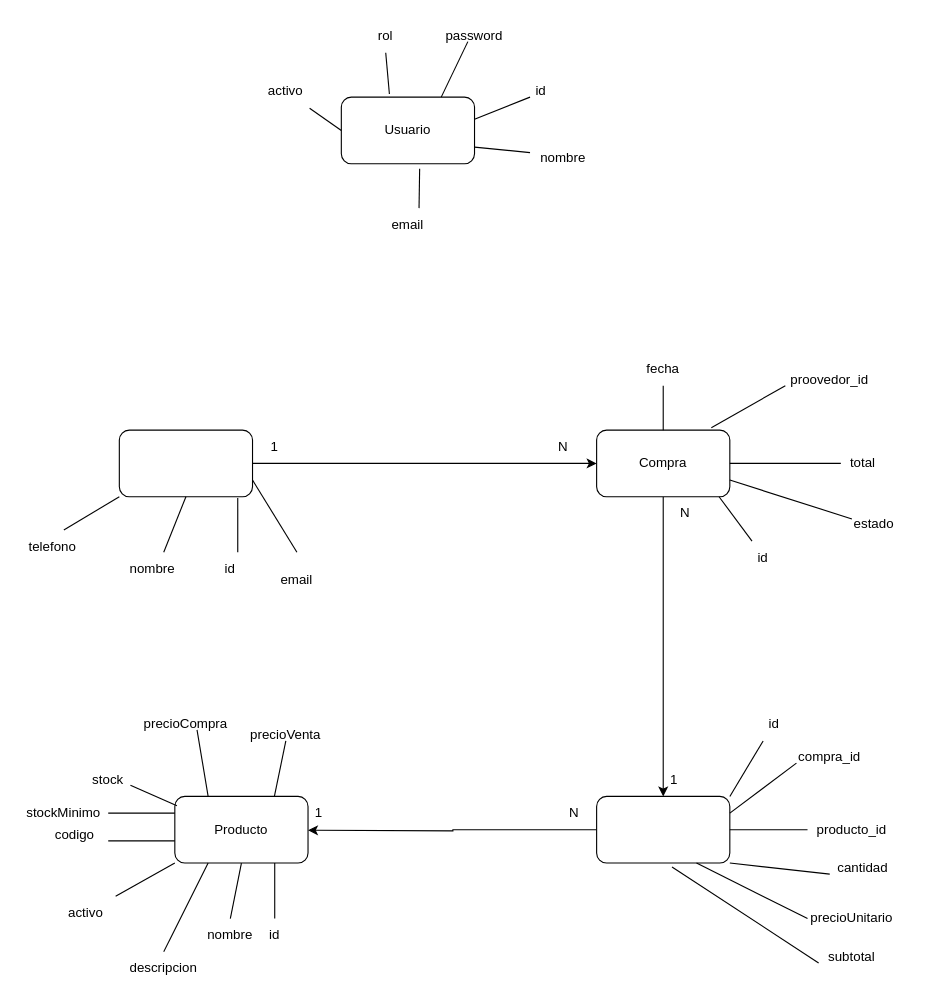
This 926x1003 diagram has some shape labels left out. Each missing label, with the centre of its shape:
"Detalle_Compra" belongs at [663,829].
"Proveedor" belongs at [185,463].
